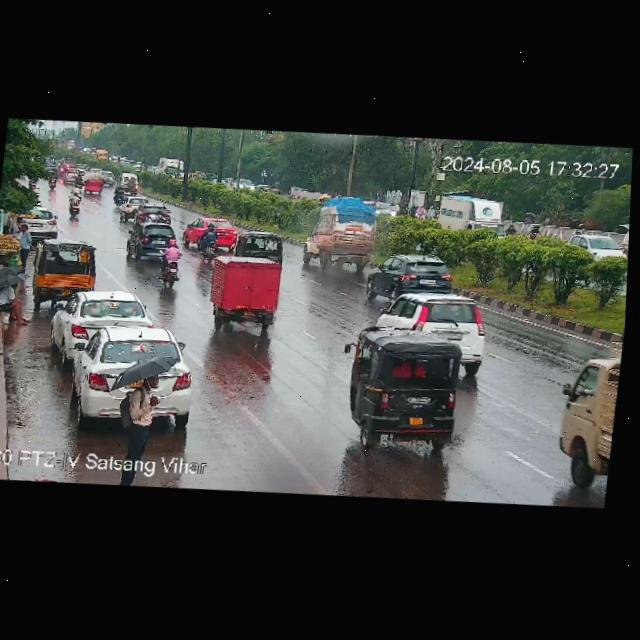car: (336, 323, 472, 455), (60, 323, 187, 408), (373, 284, 500, 366), (51, 286, 154, 353), (207, 256, 288, 335), (363, 253, 465, 303), (28, 238, 100, 305), (227, 230, 289, 267), (7, 204, 61, 237), (570, 227, 625, 258), (127, 223, 169, 261), (120, 193, 146, 220), (81, 168, 104, 195), (131, 202, 150, 225), (122, 174, 143, 194), (100, 170, 116, 186), (63, 166, 79, 182)
motorcycle: (156, 245, 187, 292), (196, 224, 222, 262), (150, 207, 172, 224), (68, 191, 80, 220), (113, 185, 124, 208), (45, 175, 59, 190), (74, 171, 85, 190)
person: (122, 371, 163, 454), (0, 280, 35, 327), (14, 224, 32, 266), (11, 215, 21, 233)
truck: (548, 327, 622, 492), (299, 193, 381, 274), (436, 191, 514, 238), (157, 156, 188, 178)
